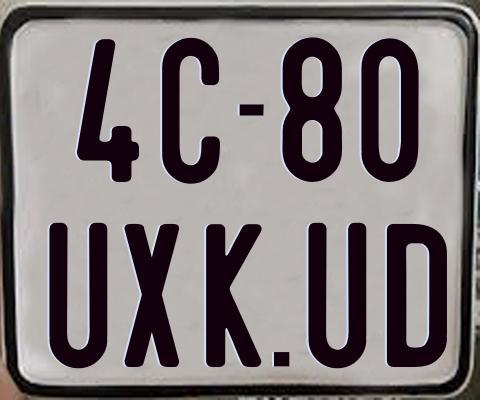0: (359, 37, 417, 183)
4: (76, 36, 140, 180)
8: (279, 36, 345, 187)
C: (161, 35, 225, 183)
D: (385, 221, 450, 369)
K: (205, 222, 266, 371)
U: (308, 221, 369, 368), (46, 222, 106, 370)
X: (123, 222, 182, 371)
